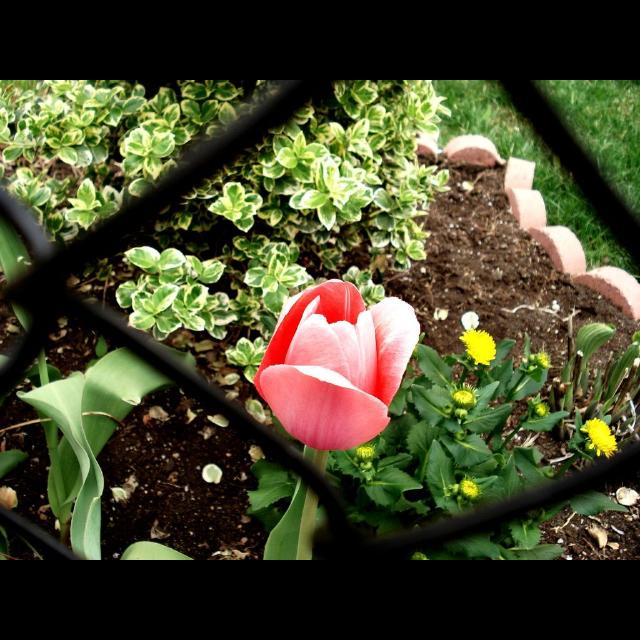Flower: (254, 285, 426, 447), (582, 419, 618, 459), (462, 328, 496, 364), (462, 478, 482, 498)
